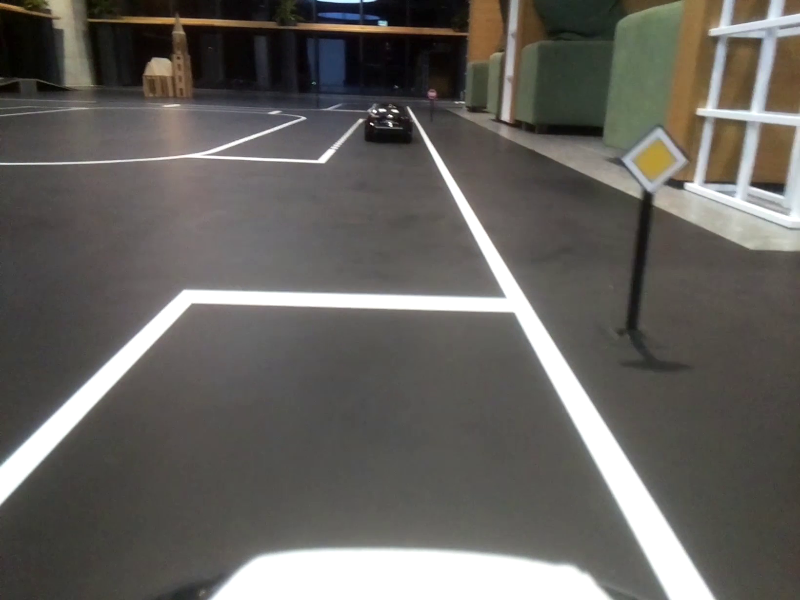priority: (617, 124, 687, 200)
